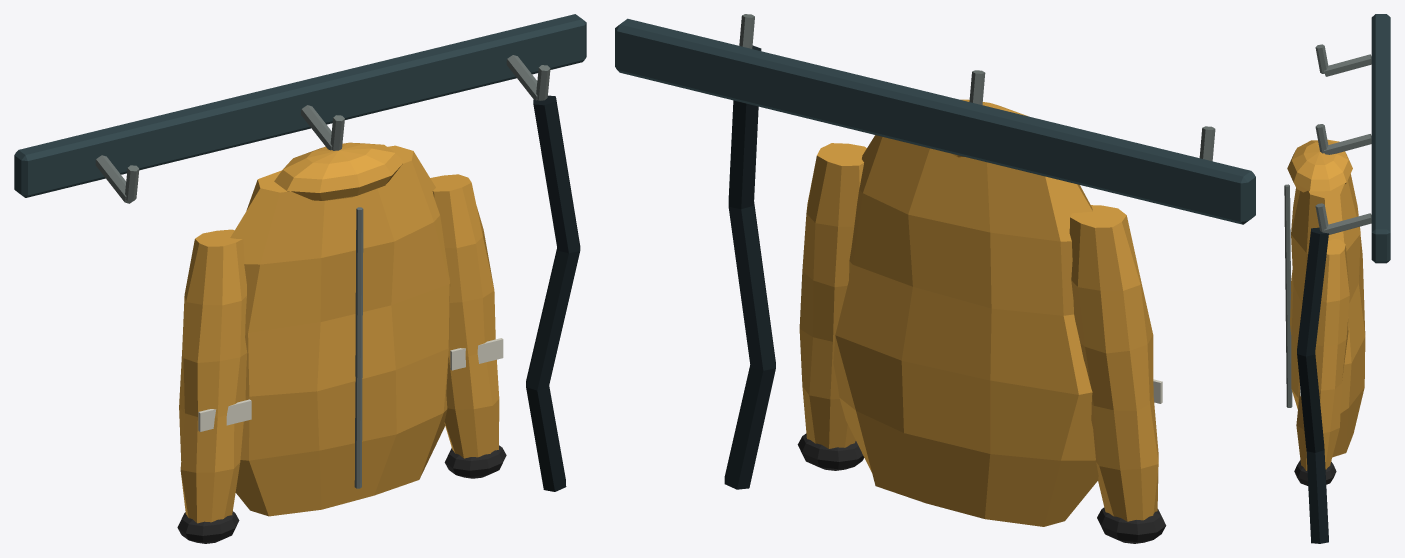
Rendered from coat-hook-workwear.glb.
3 views of the same model, side by side, from view 1: azimuth 30°, elevation 25°; view 2: azimuth 150°, elevation 25°; view 3: azimuth 270°, elevation 25° (orthographic). The views are drawn at different scales.
Visible parts, largest first — view 1: coat-hook-workwear__coat-hook-workwear__cloth-amber, coat-hook-workwear__coat-hook-workwear__steel, coat-hook-workwear__coat-hook-workwear__rubber, coat-hook-workwear__coat-hook-workwear__hardware, coat-hook-workwear__coat-hook-workwear__cloth-black, coat-hook-workwear__coat-hook-workwear__ivory; view 2: coat-hook-workwear__coat-hook-workwear__cloth-amber, coat-hook-workwear__coat-hook-workwear__steel, coat-hook-workwear__coat-hook-workwear__rubber, coat-hook-workwear__coat-hook-workwear__cloth-black, coat-hook-workwear__coat-hook-workwear__hardware; view 3: coat-hook-workwear__coat-hook-workwear__cloth-amber, coat-hook-workwear__coat-hook-workwear__rubber, coat-hook-workwear__coat-hook-workwear__steel, coat-hook-workwear__coat-hook-workwear__hardware, coat-hook-workwear__coat-hook-workwear__cloth-black.
Boxes of the visible parts, left/top/right/bottom form: coat-hook-workwear__coat-hook-workwear__cloth-amber: left=179, top=142, right=499, bottom=523; coat-hook-workwear__coat-hook-workwear__steel: left=14, top=14, right=586, bottom=197; coat-hook-workwear__coat-hook-workwear__rubber: left=526, top=95, right=580, bottom=491; coat-hook-workwear__coat-hook-workwear__hardware: left=95, top=55, right=550, bottom=488; coat-hook-workwear__coat-hook-workwear__cloth-black: left=177, top=445, right=506, bottom=543; coat-hook-workwear__coat-hook-workwear__ivory: left=198, top=338, right=503, bottom=431; coat-hook-workwear__coat-hook-workwear__cloth-amber: left=799, top=99, right=1158, bottom=526; coat-hook-workwear__coat-hook-workwear__steel: left=615, top=18, right=1255, bottom=224; coat-hook-workwear__coat-hook-workwear__rubber: left=724, top=45, right=775, bottom=489; coat-hook-workwear__coat-hook-workwear__cloth-black: left=797, top=433, right=1166, bottom=543; coat-hook-workwear__coat-hook-workwear__hardware: left=739, top=14, right=1215, bottom=161; coat-hook-workwear__coat-hook-workwear__cloth-amber: left=1287, top=139, right=1365, bottom=470; coat-hook-workwear__coat-hook-workwear__rubber: left=1297, top=227, right=1328, bottom=543; coat-hook-workwear__coat-hook-workwear__steel: left=1371, top=14, right=1390, bottom=263; coat-hook-workwear__coat-hook-workwear__hardware: left=1284, top=44, right=1371, bottom=407; coat-hook-workwear__coat-hook-workwear__cloth-black: left=1294, top=460, right=1336, bottom=485.
Size of the model in its own units: 1.1 by 0.7943 by 0.226.
